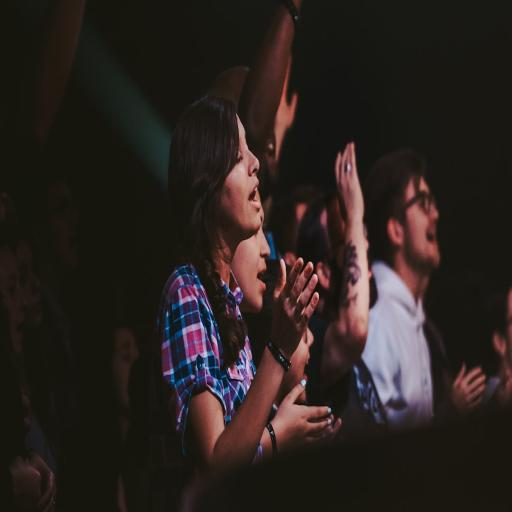face: (228, 135, 261, 238), (410, 180, 442, 268), (246, 223, 272, 312), (295, 322, 315, 394)
